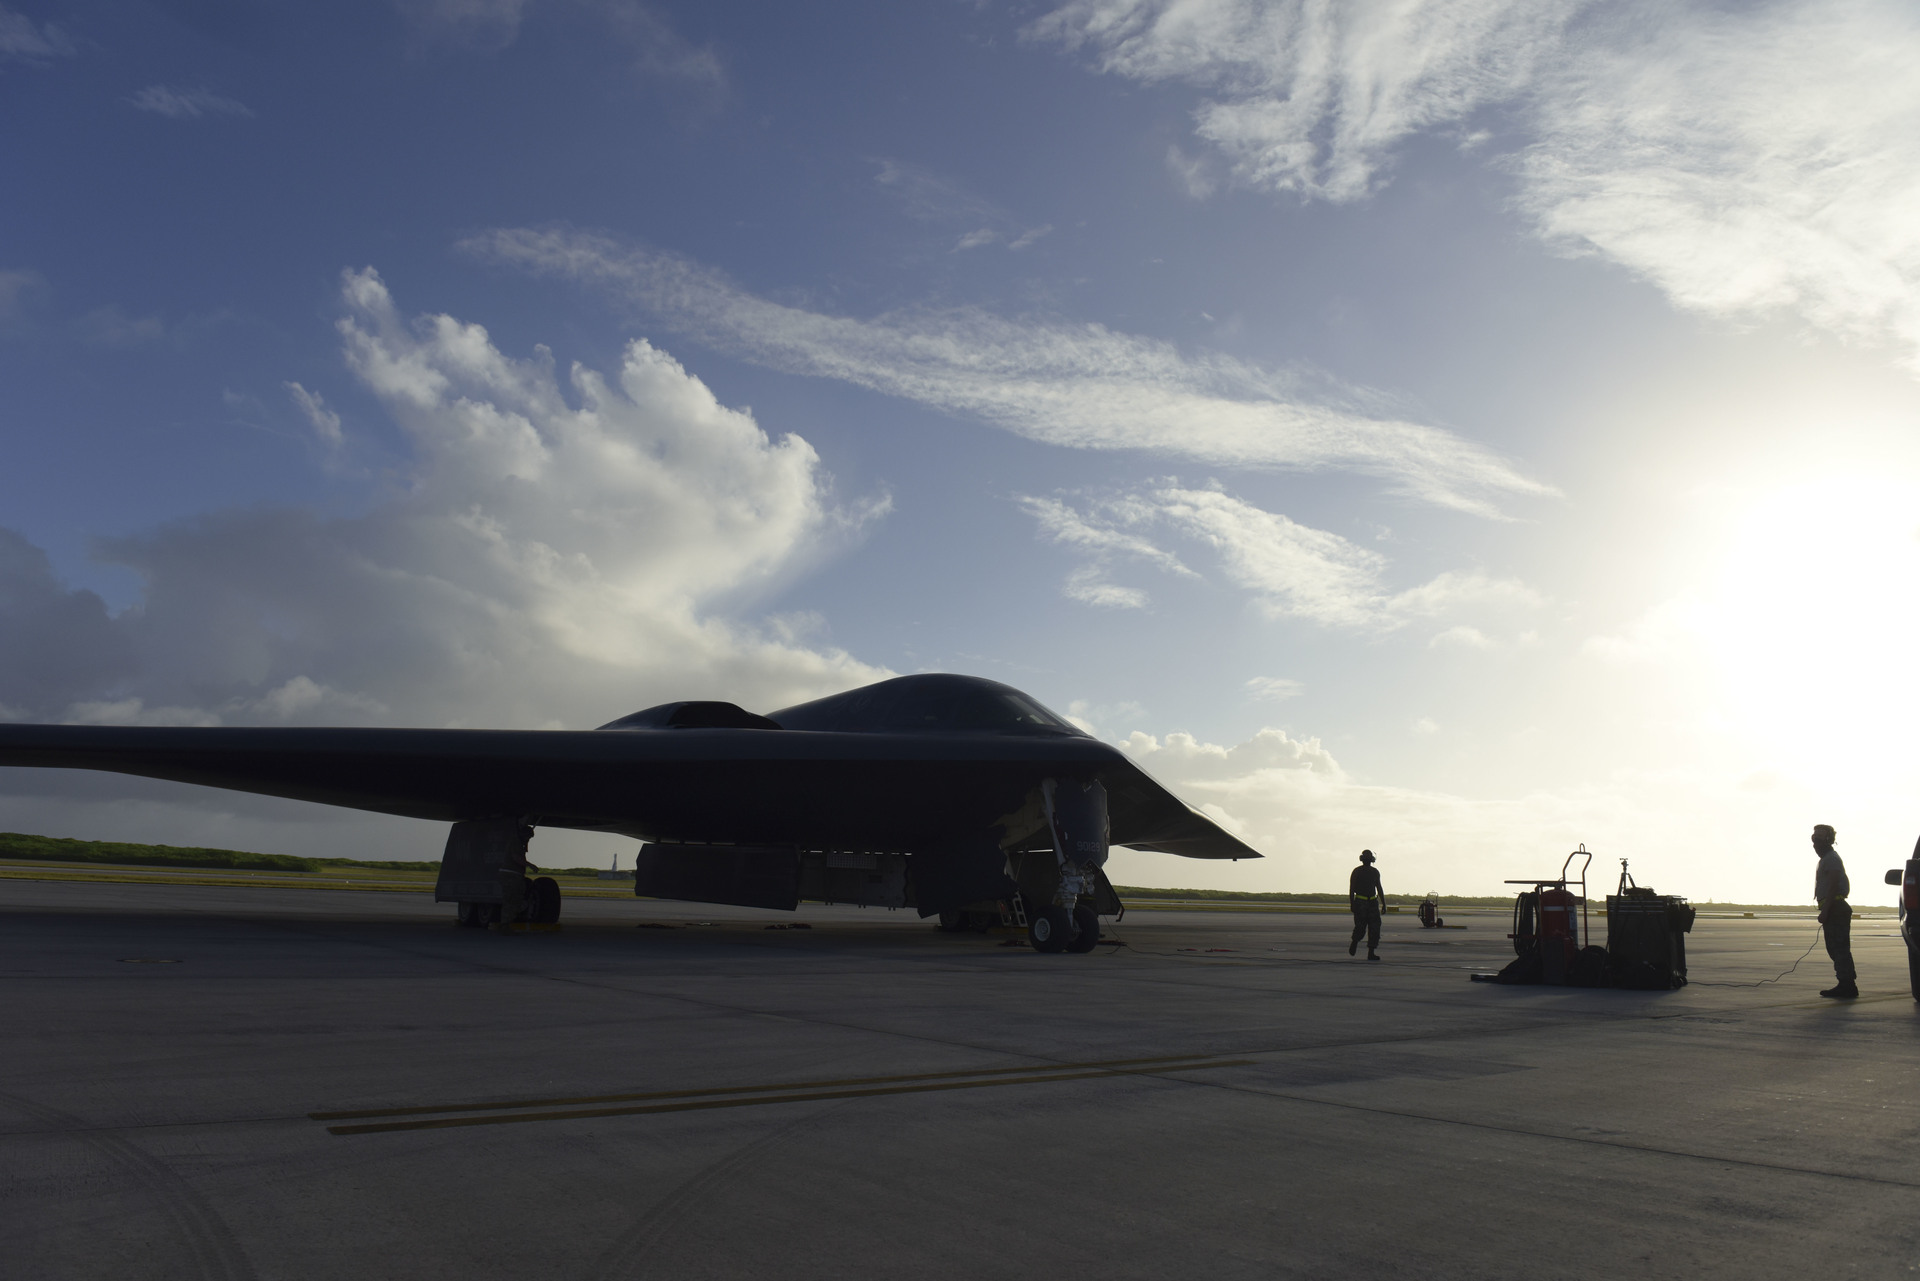B2: (1, 672, 1267, 954)
